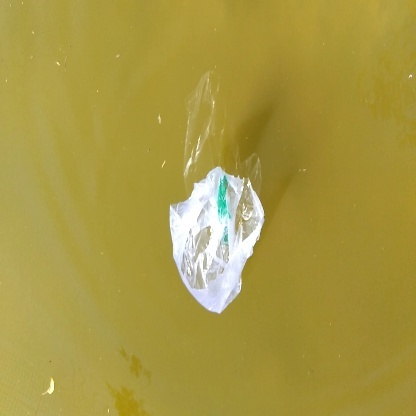plastic-bag: (168, 164, 267, 315)
